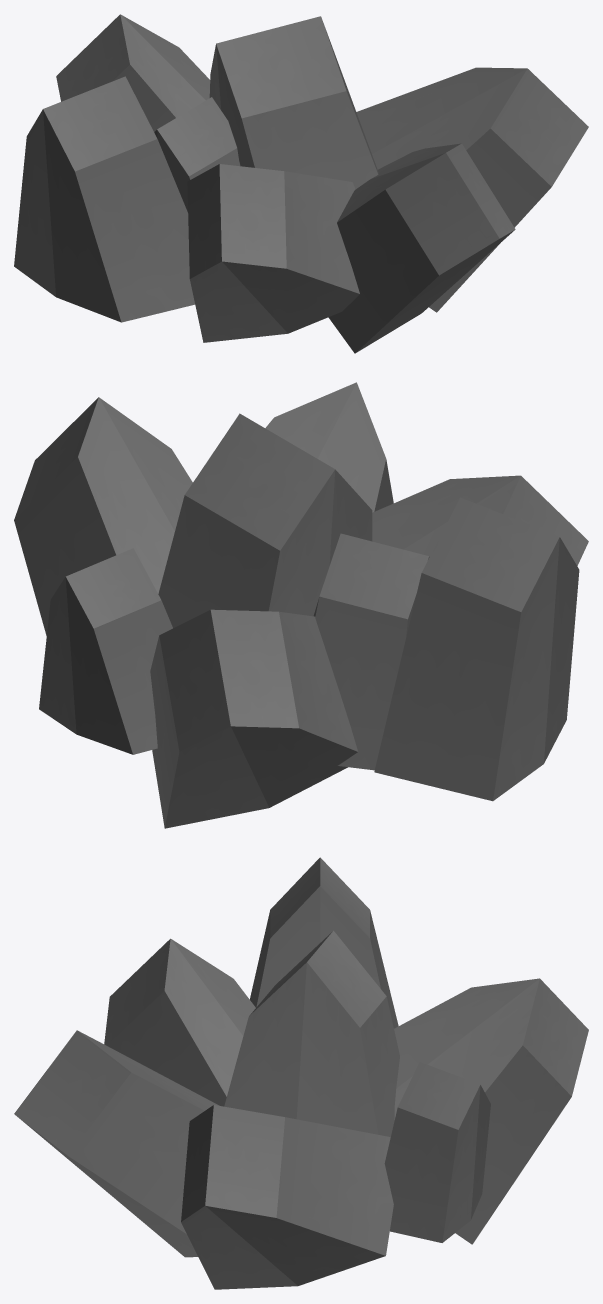
File: pack02_rocks_12.fbx
3 renders of one model, top to bottom at view 1: azimuth 30°, elevation 25°; view 2: azimuth 150°, elevation 25°; view 3: azimuth 270°, elevation 25°, orthographic. The views are drawn at different scales.
Parts seen in each view (by area): view 1: Rock Type3 04 mesh; view 2: Rock Type3 04 mesh; view 3: Rock Type3 04 mesh.
Boxes of the visible parts, bbox=[...] form: Rock Type3 04 mesh: bbox=[14, 14, 588, 353]; Rock Type3 04 mesh: bbox=[14, 382, 588, 828]; Rock Type3 04 mesh: bbox=[14, 857, 588, 1289].
Bounding box in the file's own units: 129 × 70.66 × 126.
Materials: 1 (1 with a texture image).
